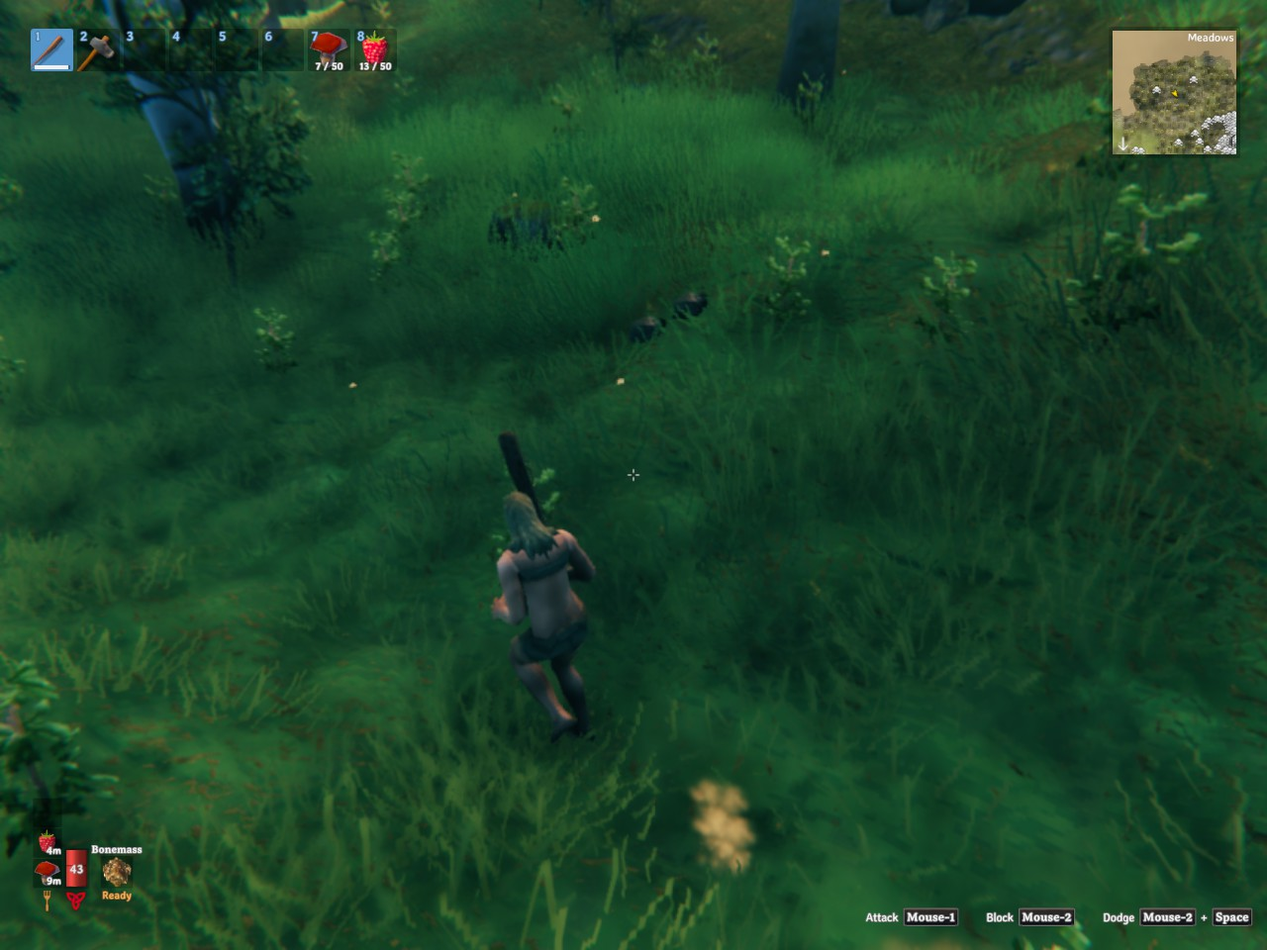Stone: (629, 315, 663, 341), (674, 292, 707, 318)
